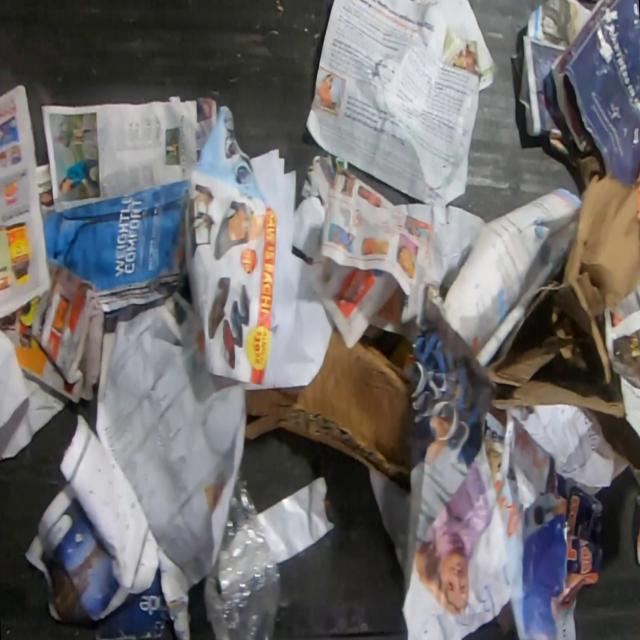cardboard: (481, 170, 640, 470), (244, 328, 416, 576), (545, 457, 605, 620)
soft_plastic: (200, 462, 281, 640), (258, 473, 337, 564)
